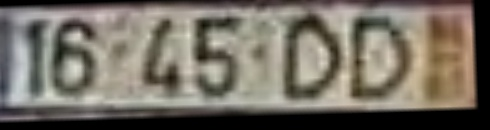1: (19, 17, 52, 101)
4: (141, 15, 189, 101)
5: (191, 15, 247, 102)
6: (51, 17, 102, 100)
D: (346, 15, 417, 104), (281, 13, 348, 105)
